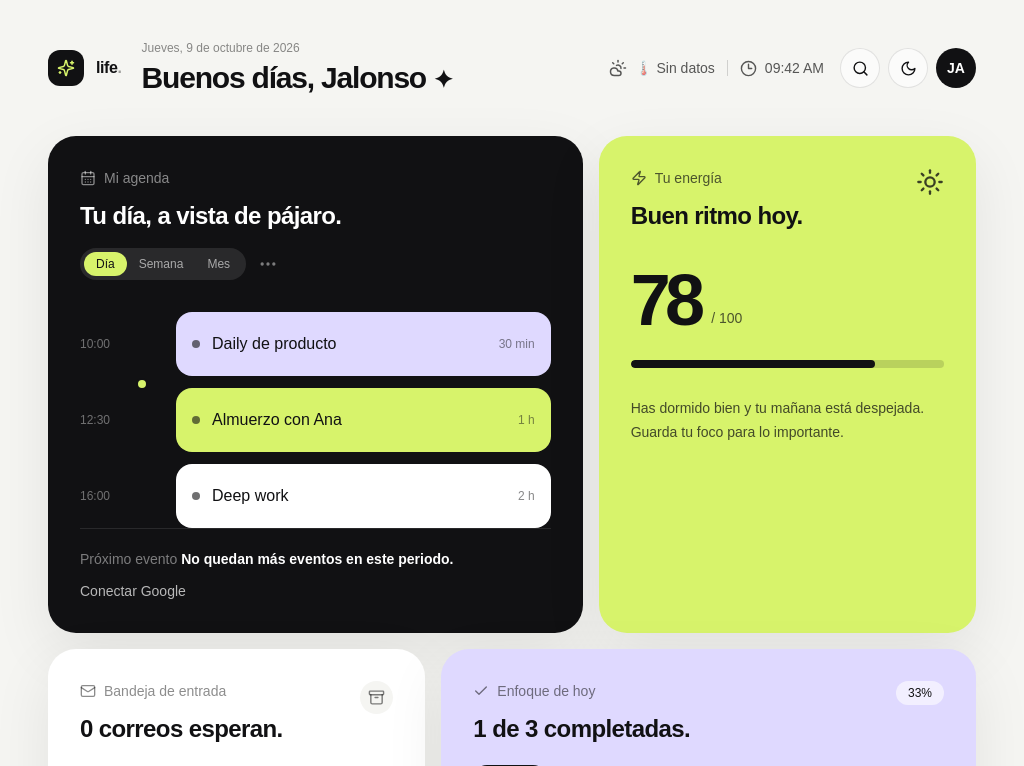
Test case: Dashboard › can archive the inbox
Click the button named "Archivar correos" at point(377, 698), box [360, 681, 393, 714]
(page scrolled)
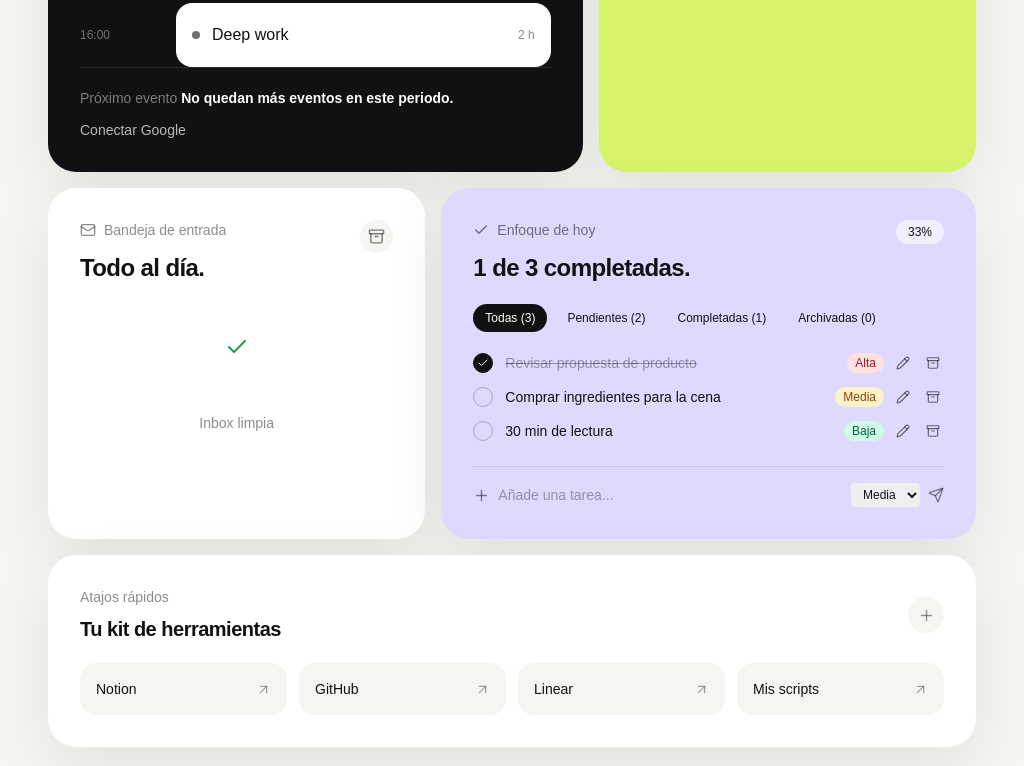
Result: the heading "Todo al día." is shown at [80, 252, 226, 284]
Result: the text "Inbox limpia" is shown at [199, 335, 274, 431]
